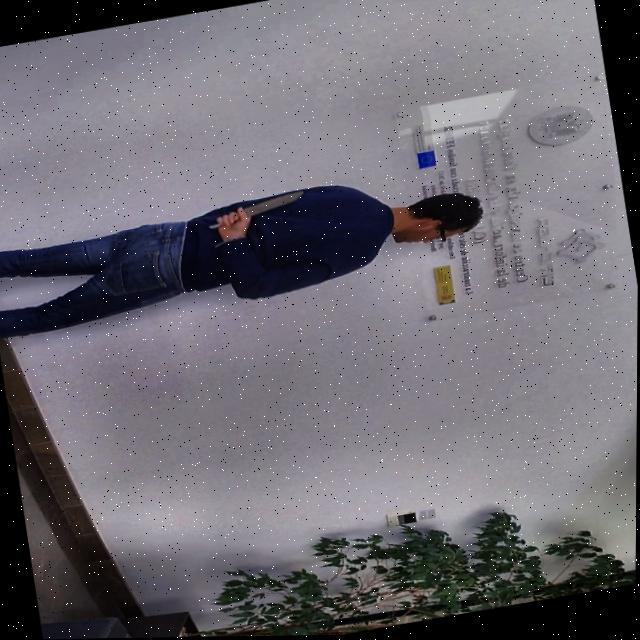knife: (239, 188, 306, 221)
